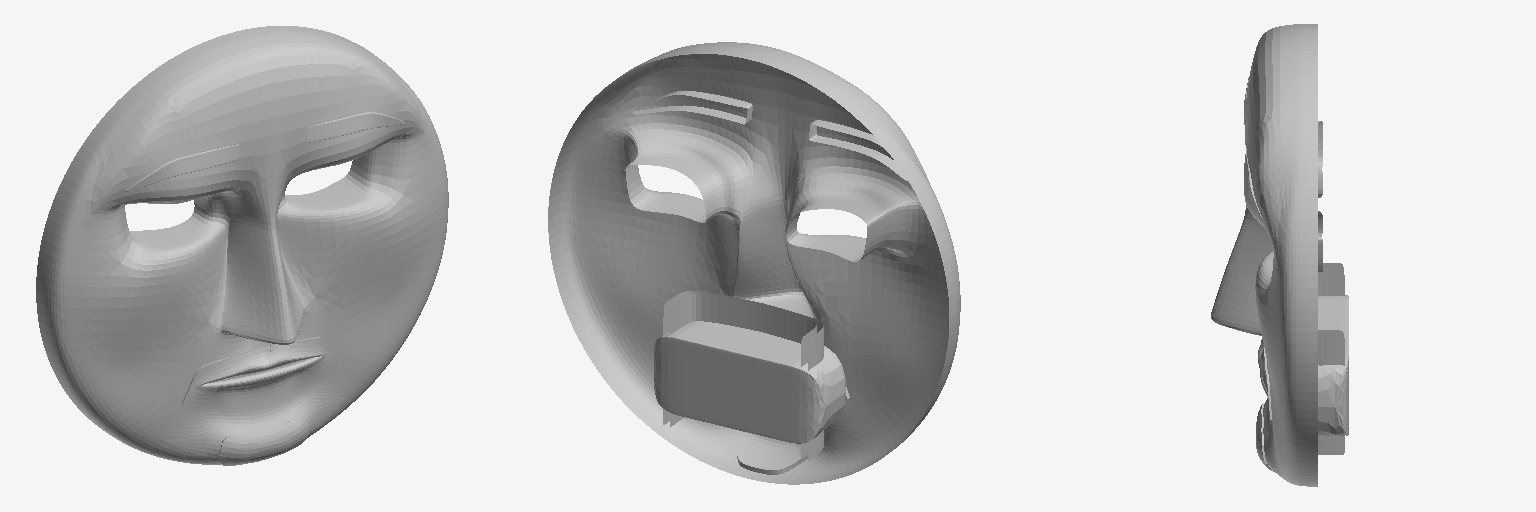
Rendered from Parker Test Face.obj.
3 views of the same model, side by side, from view 1: azimuth 30°, elevation 25°; view 2: azimuth 150°, elevation 25°; view 3: azimuth 270°, elevation 25° (orthographic).
Parts seen in each view (by area): view 1: Circle.211; view 2: Circle.211; view 3: Circle.211.
Boxes of the visible parts, box(x1,y1,x2,y2) form: Circle.211: box(36, 26, 448, 465); Circle.211: box(548, 42, 960, 484); Circle.211: box(1211, 24, 1348, 486).
Bounding box in the file's own units: 50.64 × 50.76 × 15.12.